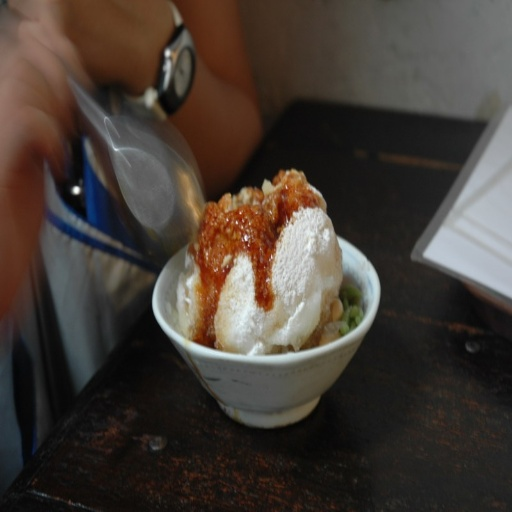hand: (0, 35, 74, 276), (0, 0, 180, 97)
